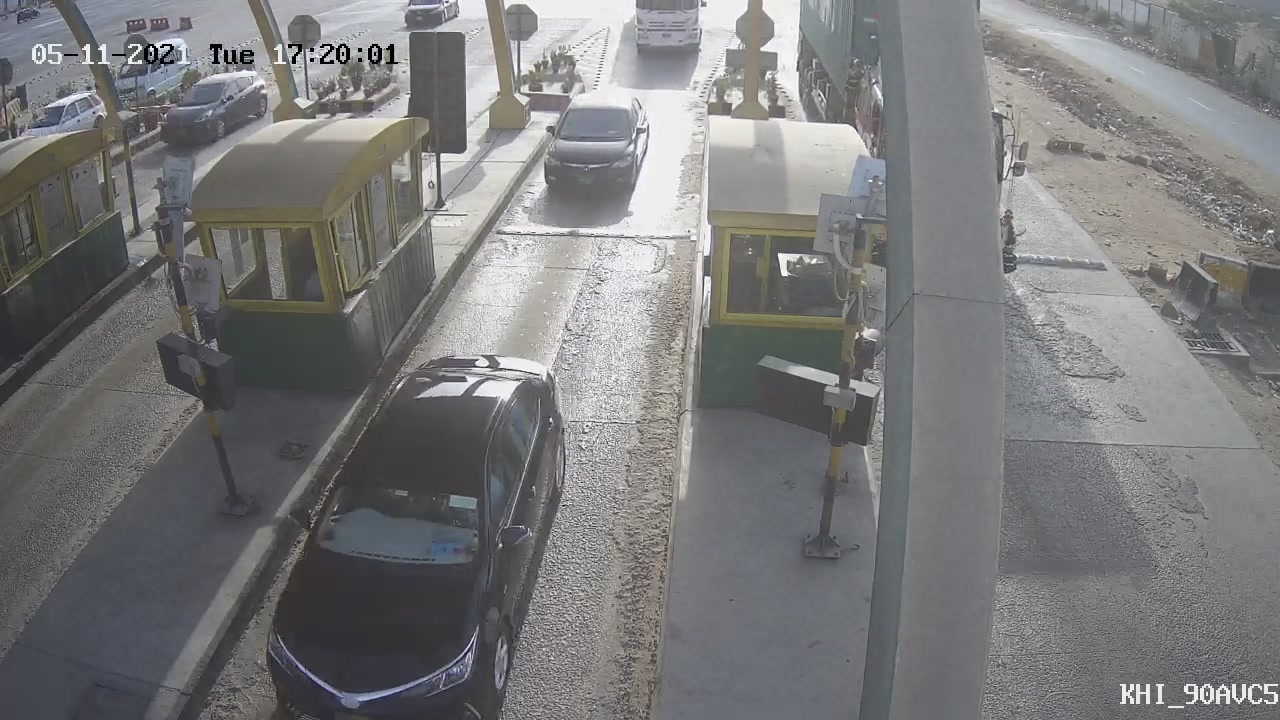F1: (520, 74, 670, 224)
